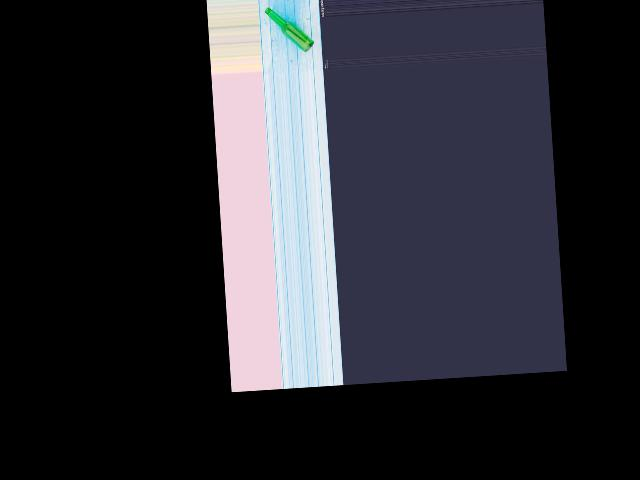beer: (264, 4, 315, 55)
